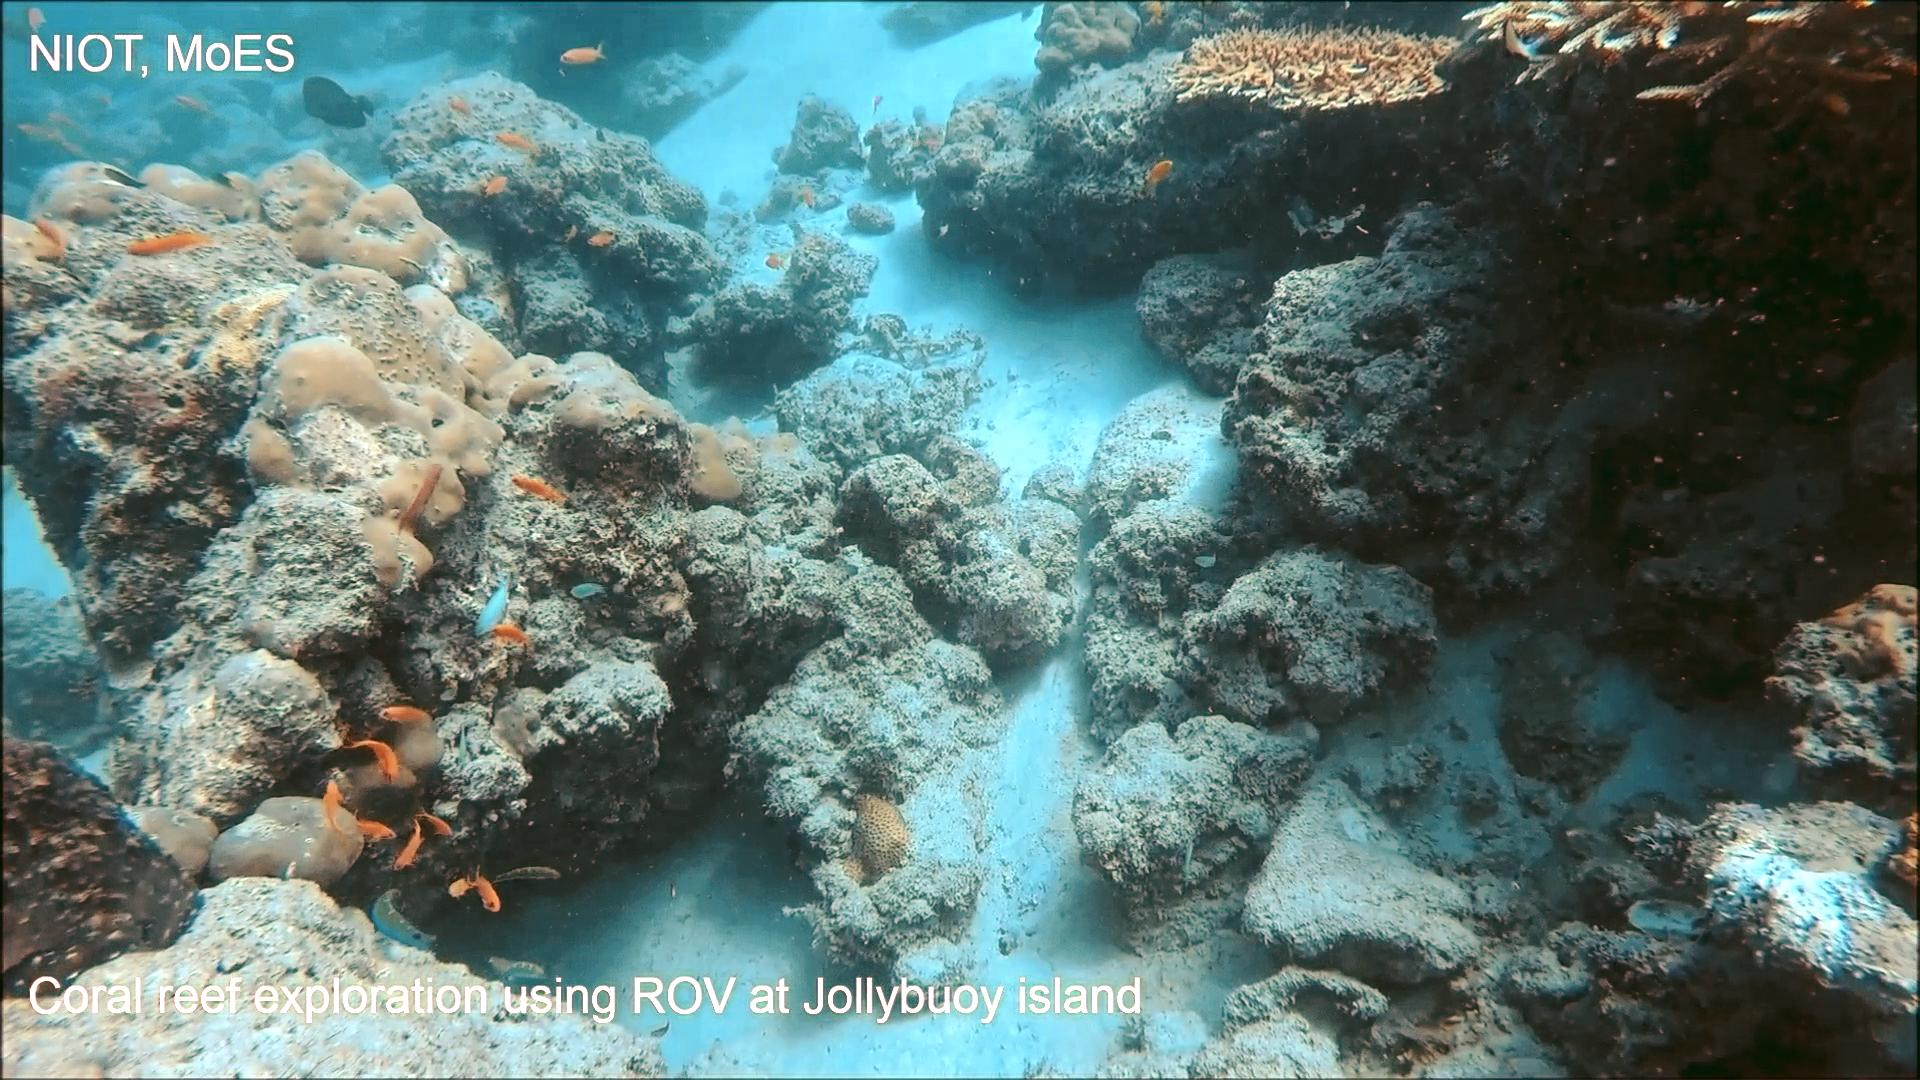Porites-Porites pukoensis: (215, 140, 570, 604)
